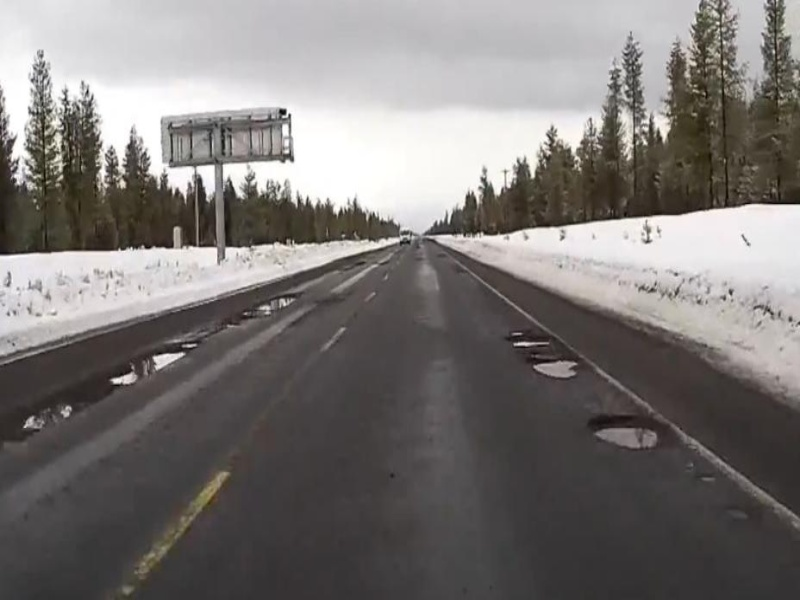pothole: (104, 350, 190, 388), (584, 415, 663, 455), (531, 357, 588, 380), (253, 292, 300, 313), (496, 332, 557, 348)
